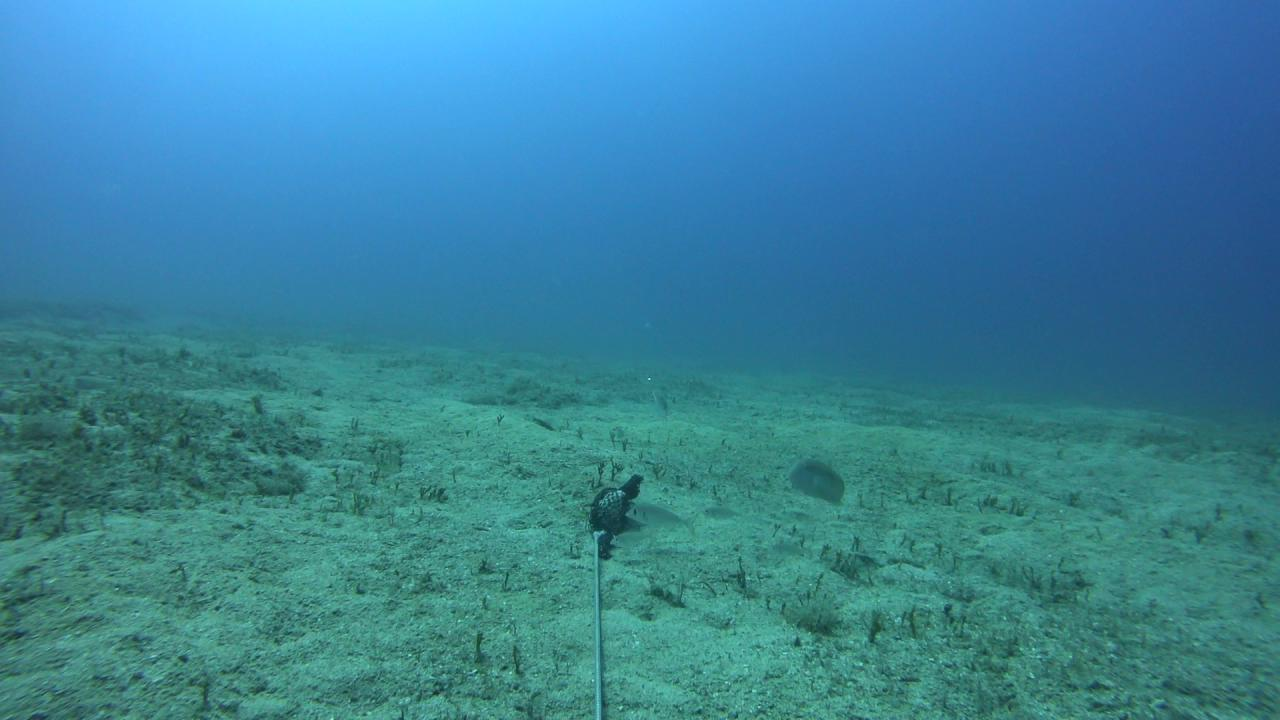pagellus: (624, 503, 696, 533), (609, 528, 657, 550), (701, 504, 745, 524)
raor: (782, 456, 846, 507)
